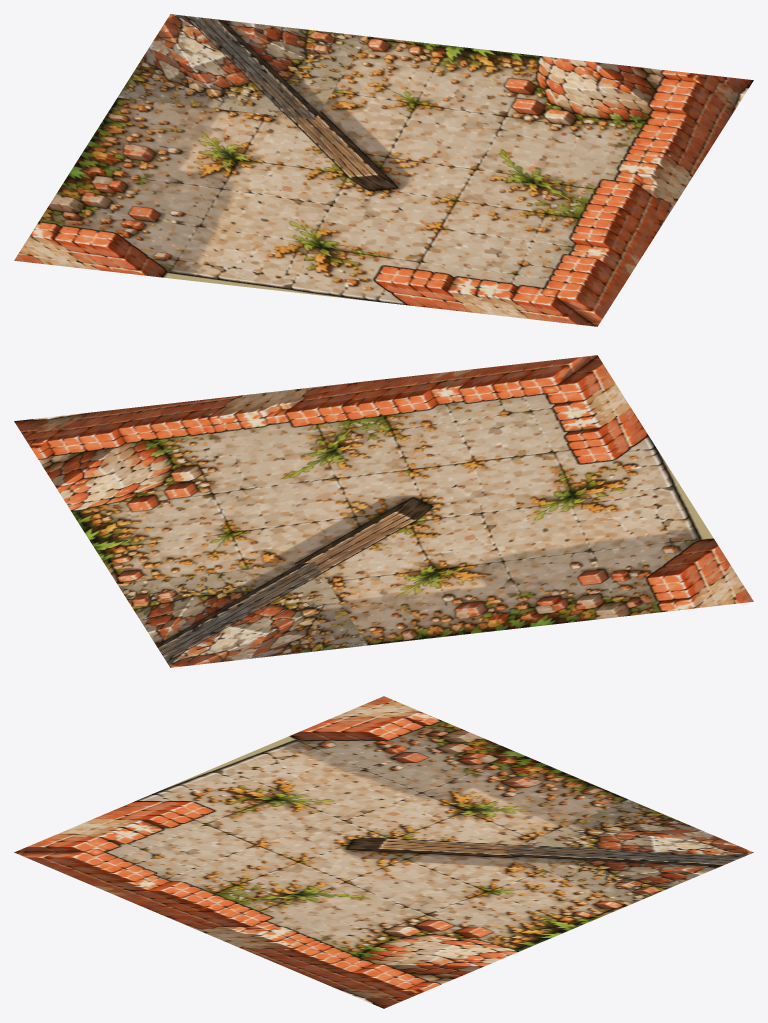
The model's file is ruin_floor.glb.
3 views of the same model, one above another, from view 1: azimuth 30°, elevation 25°; view 2: azimuth 150°, elevation 25°; view 3: azimuth 270°, elevation 25° (orthographic). The views are drawn at different scales.
Parts seen in each view (by area): view 1: ruin_floor_game; view 2: ruin_floor_game; view 3: ruin_floor_game.
Part boxes in pixels (x1=…): ruin_floor_game: x1=14, y1=14, x2=753, y2=326; ruin_floor_game: x1=14, y1=355, x2=753, y2=667; ruin_floor_game: x1=14, y1=696, x2=753, y2=1008.
Size of the model in its own units: 6.58 by 0 by 6.58.
1 material, 1 textured.
